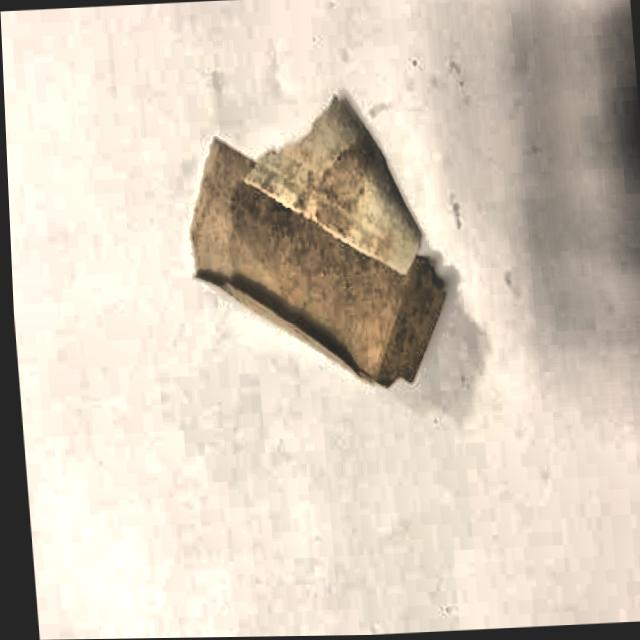Cardbox: (164, 95, 461, 413)
